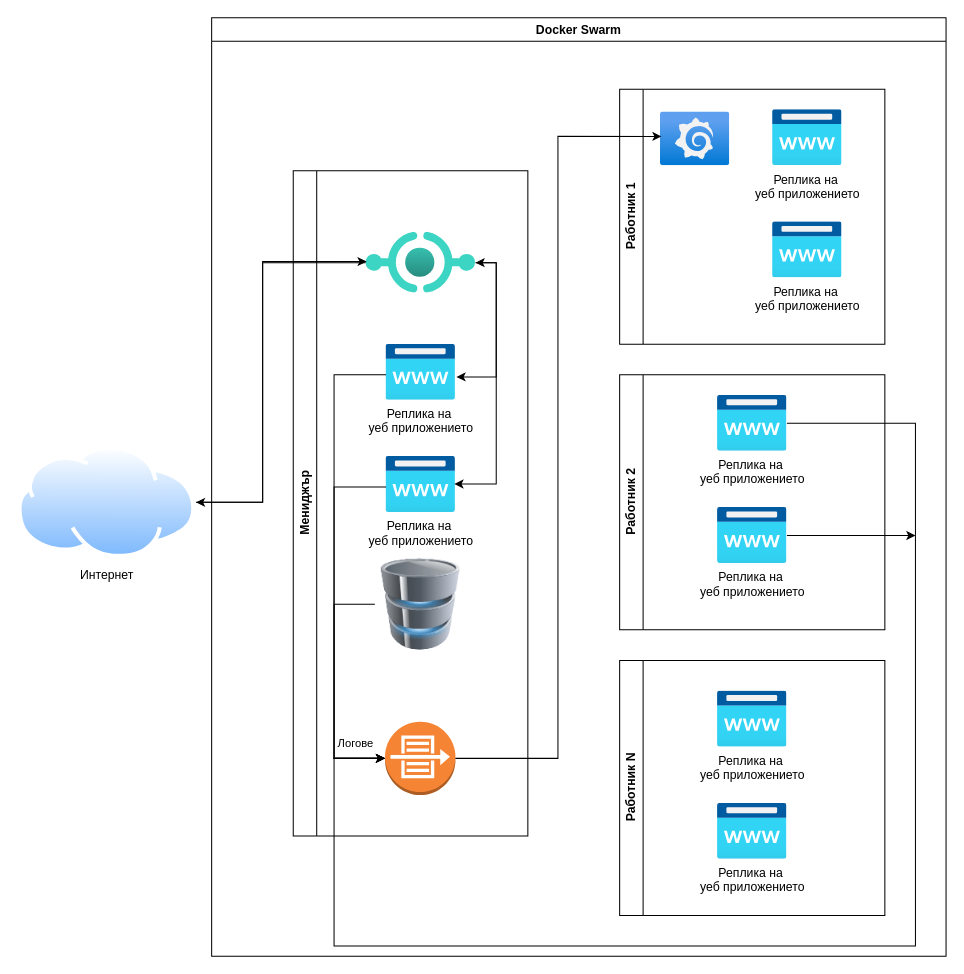
This 964x974 diagram has some shape labels left out. Here are the shapes that lost their labels. From the top down, the box of each, then its label:
(660, 111, 729, 165): Grafana
(365, 232, 475, 293): Haproxy
(374, 558, 466, 650): Главен Postgres
(384, 721, 455, 795): Loki
